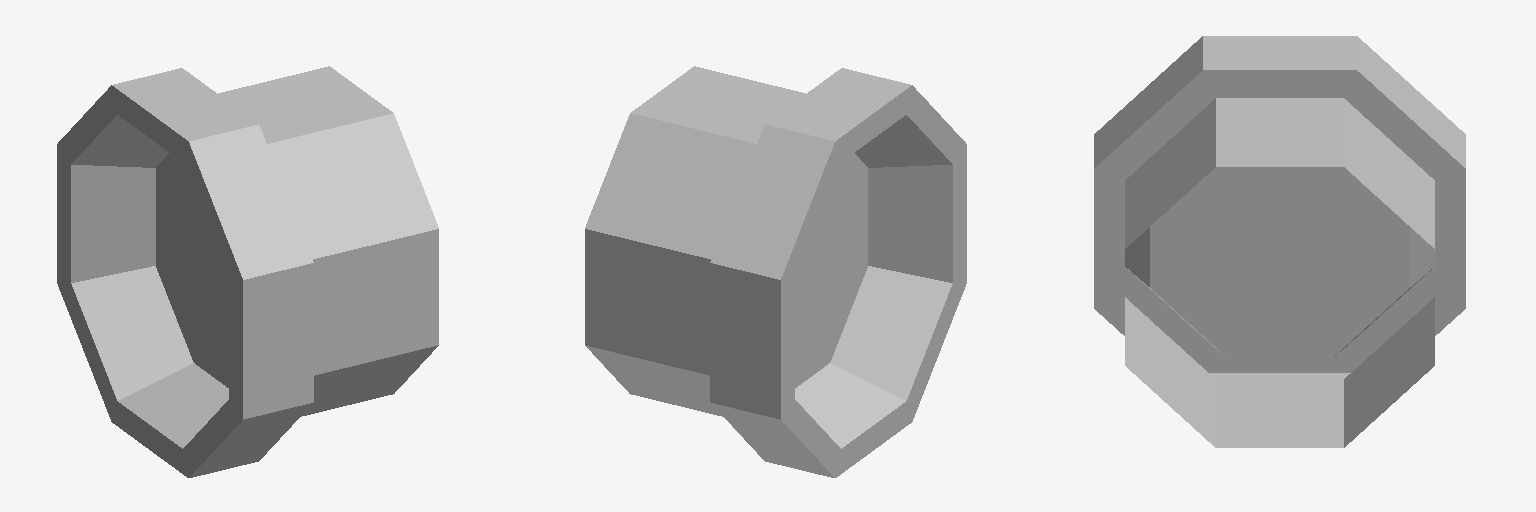
The model's file is pipeEnd.obj.
The picture shows the model from 3 angles: view 1: azimuth 30°, elevation 25°; view 2: azimuth 150°, elevation 25°; view 3: azimuth 270°, elevation 25°; orthographic projection.
Visible parts, largest first — view 1: mesh01; view 2: mesh01; view 3: mesh01.
Part boxes in pixels (bbox=[...]): mesh01: bbox=[57, 66, 438, 477]; mesh01: bbox=[585, 66, 966, 477]; mesh01: bbox=[1094, 36, 1465, 447].
Bounding box in the file's own units: 0.6 × 0.9134 × 0.9134.